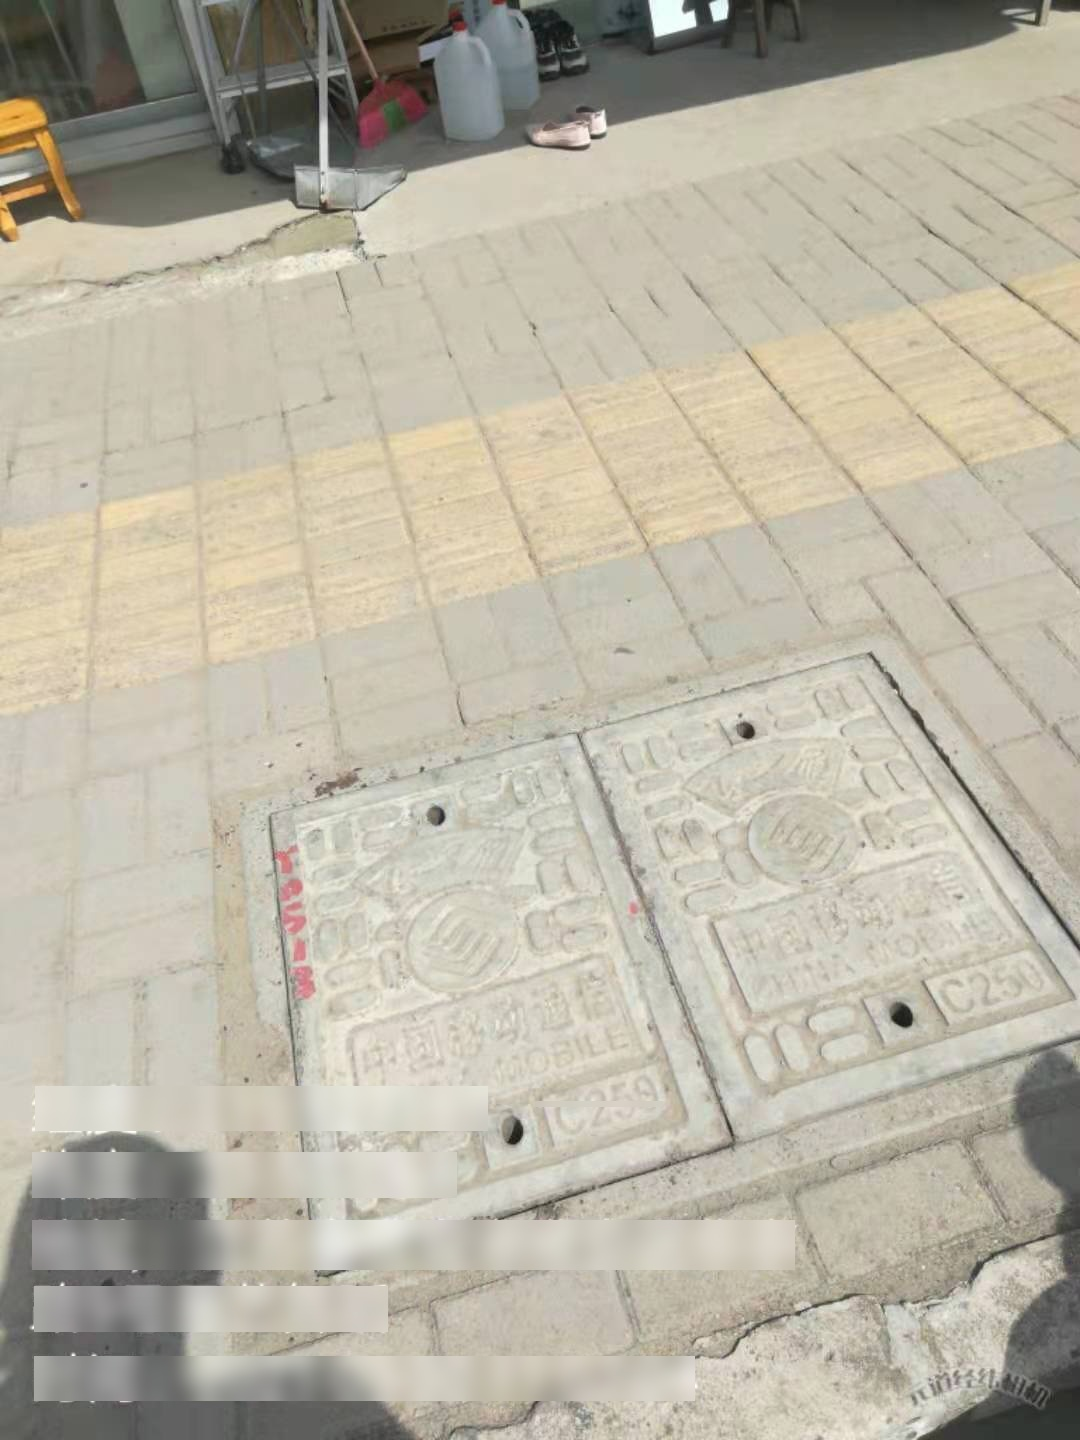good: (242, 632, 1080, 1318)
